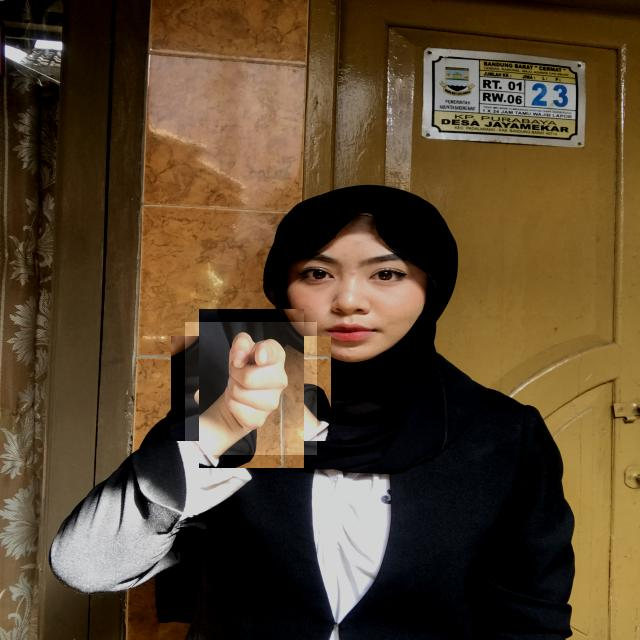kamu: (185, 322, 317, 455)
